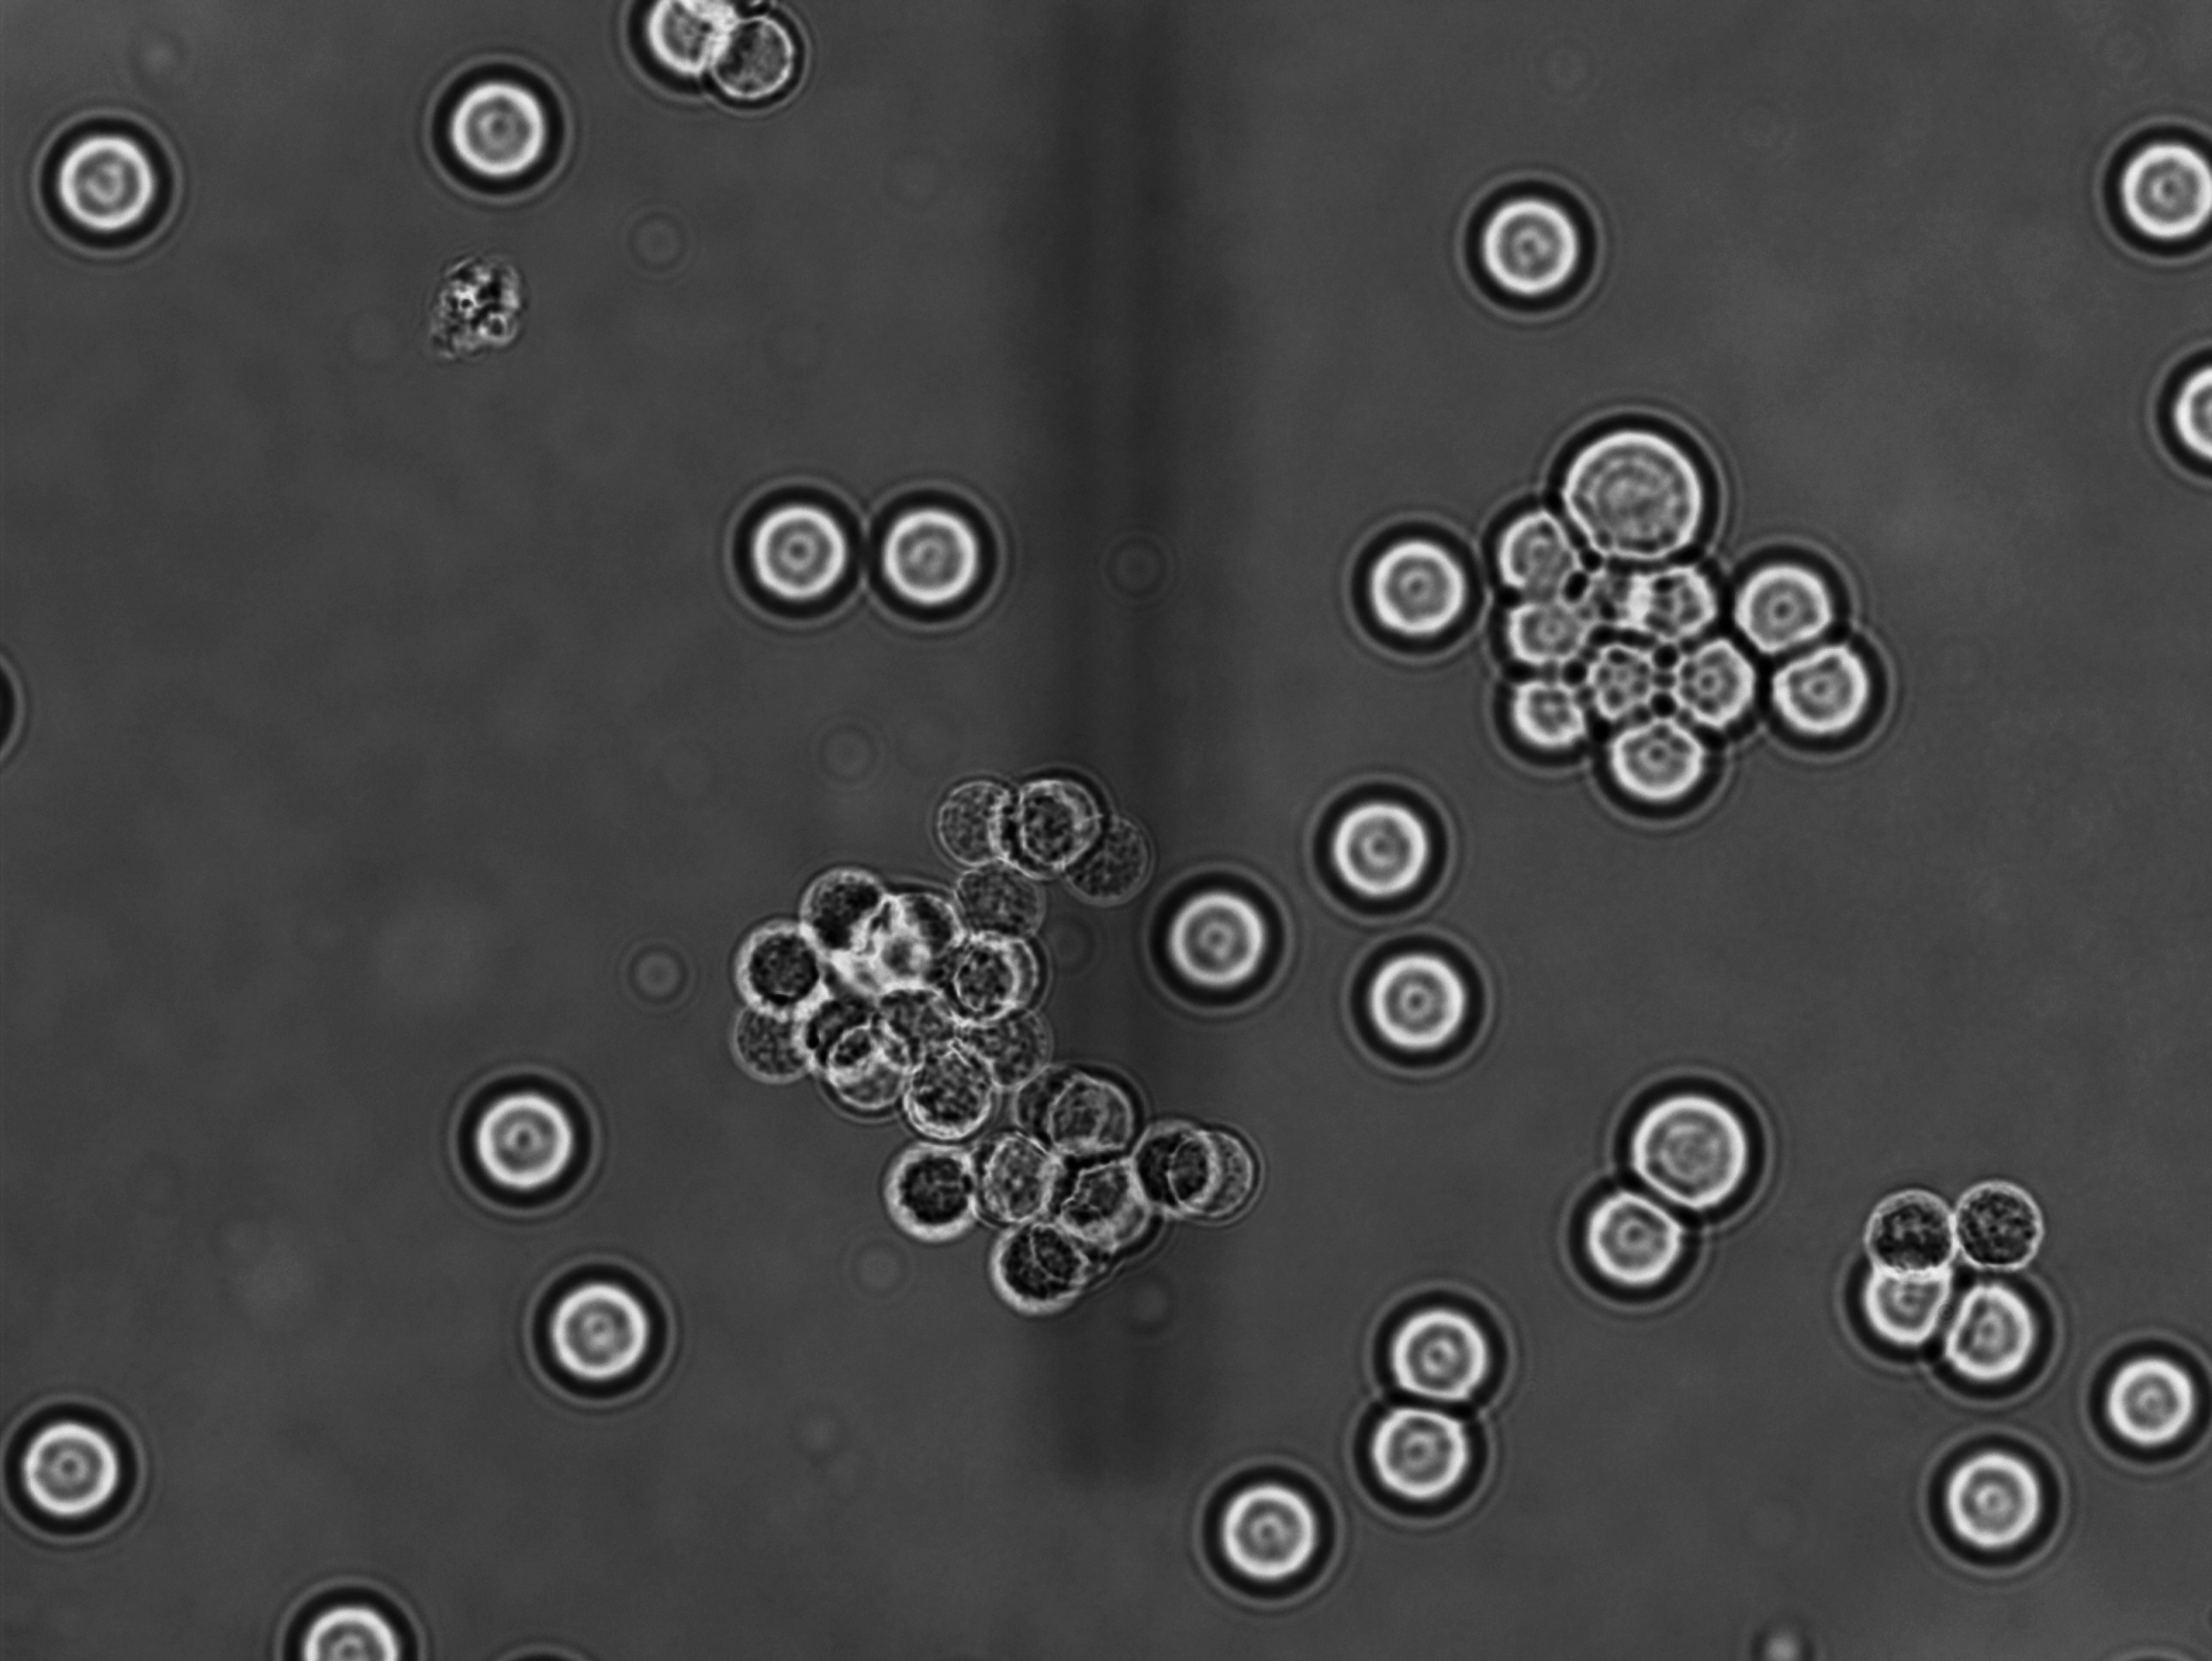depth:20: (1127, 846, 1303, 1022), (1444, 169, 1631, 335), (848, 457, 1021, 635), (1357, 1263, 1528, 1441), (1193, 1439, 1366, 1614), (715, 454, 886, 630), (1301, 764, 1483, 926), (520, 1249, 689, 1418), (1600, 1057, 1776, 1220), (1903, 1424, 2081, 1584), (415, 51, 581, 208), (1333, 504, 1500, 660), (1329, 1378, 1499, 1530), (1556, 1164, 1717, 1323), (454, 1059, 609, 1223), (26, 103, 188, 256), (1343, 925, 1509, 1075), (2090, 101, 2212, 277), (2079, 1314, 2212, 1467)
